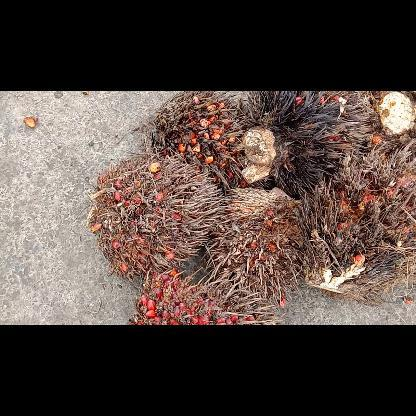Terlalu masak: (298, 139, 416, 307), (86, 153, 222, 278), (139, 91, 273, 189), (241, 90, 368, 192), (205, 187, 304, 299), (133, 266, 277, 324)
